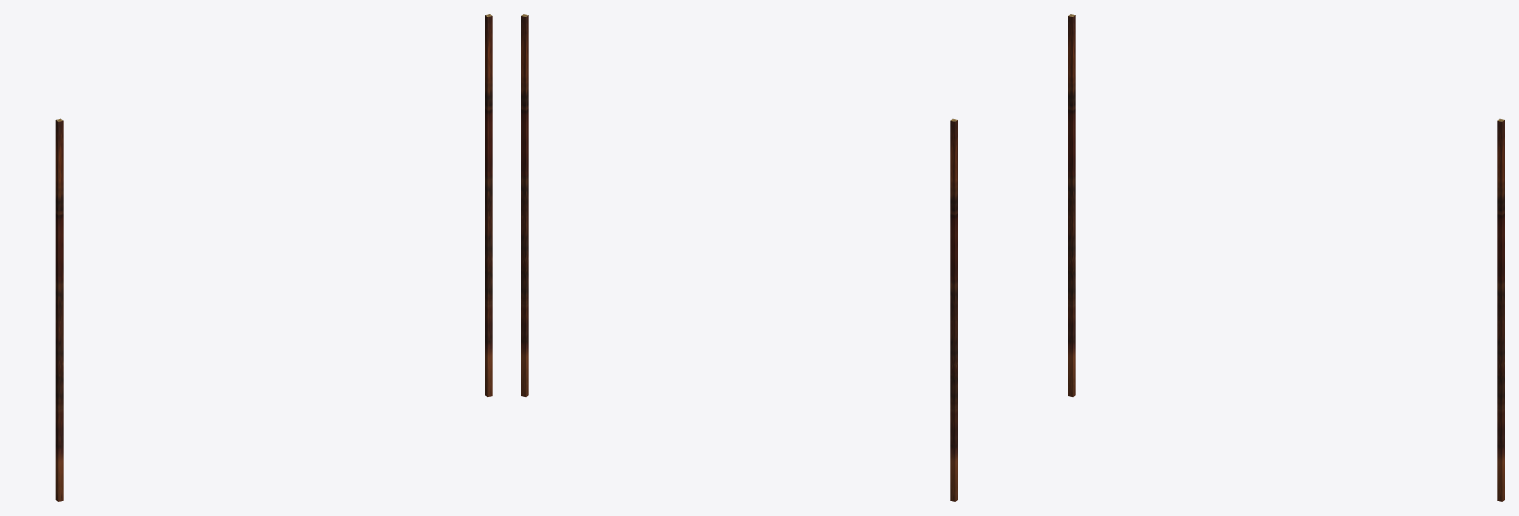
The model's file is barracks_prop.dae.
3 views of the same model, side by side, from view 1: azimuth 30°, elevation 25°; view 2: azimuth 150°, elevation 25°; view 3: azimuth 330°, elevation 25° (orthographic).
Parts seen in each view (by area): view 1: barracks_prop; view 2: barracks_prop; view 3: barracks_prop.
Part boxes in pixels (x1,y1,x2,y2): barracks_prop: (55, 14, 492, 501); barracks_prop: (521, 14, 957, 501); barracks_prop: (1068, 14, 1504, 501).
Bounding box in the file's own units: 17.85 × 0.1775 × 13.6.
